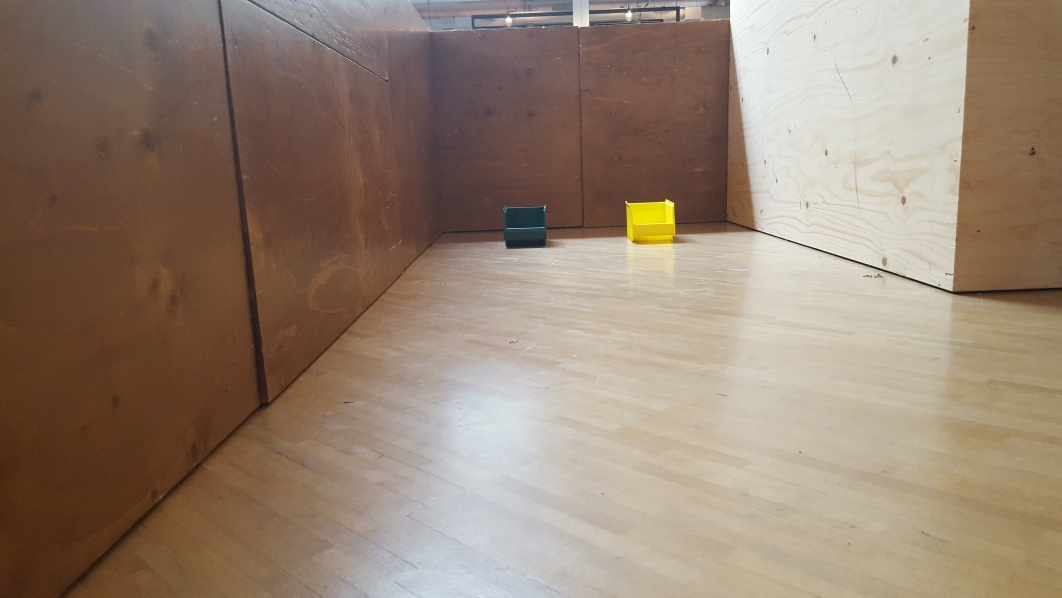tray: (498, 202, 554, 252), (621, 198, 680, 242)
